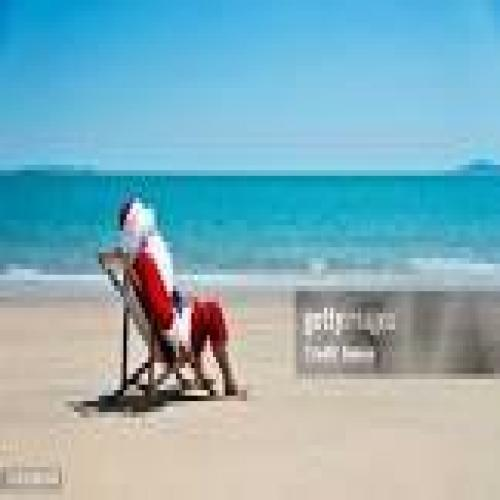Santa: (95, 183, 255, 407)
